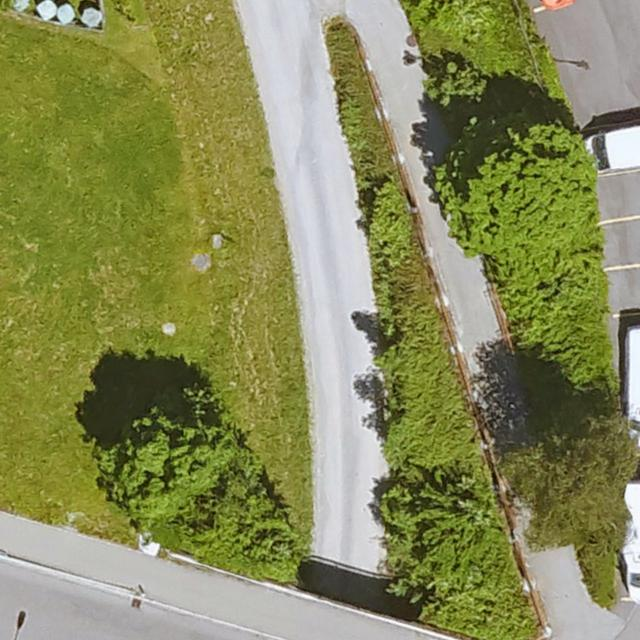tree: (450, 124, 599, 259), (103, 406, 237, 527), (515, 417, 640, 539), (381, 479, 503, 596)
